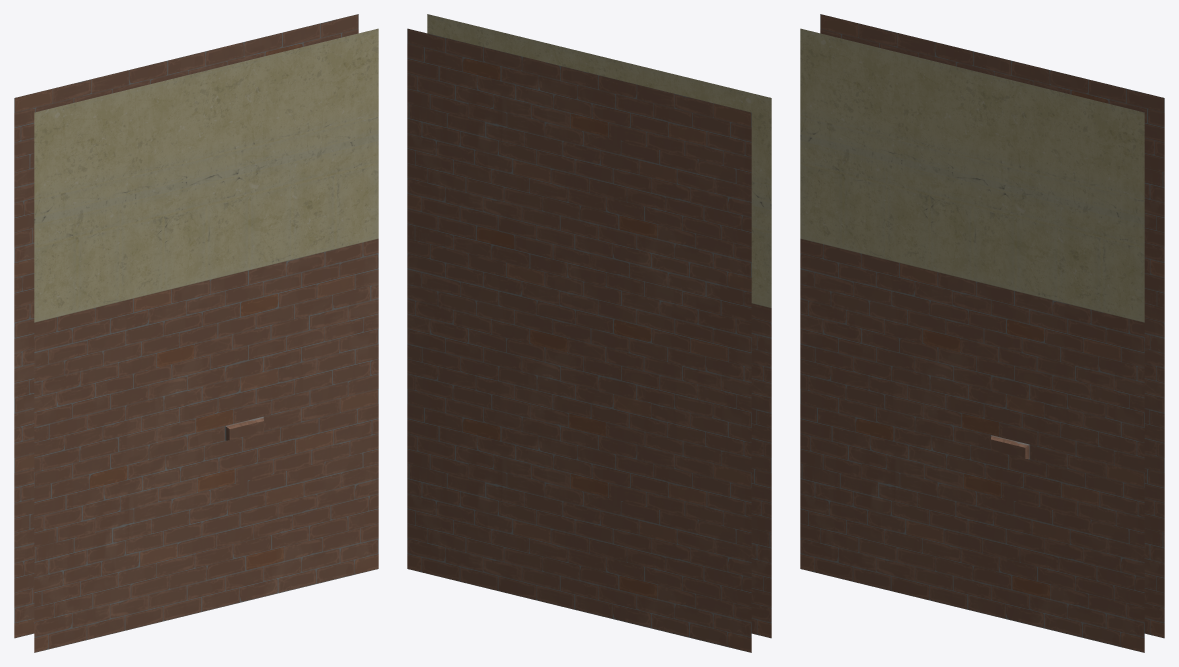
The model's file is Brick_HalfTrim.gltf.
The picture shows the model from 3 angles, left to right: view 1: azimuth 30°, elevation 25°; view 2: azimuth 150°, elevation 25°; view 3: azimuth 330°, elevation 25°; orthographic projection.
Visible parts, largest first — view 1: Brick_HalfTrim; view 2: Brick_HalfTrim; view 3: Brick_HalfTrim.
Part boxes in pixels (x1=…): Brick_HalfTrim: x1=14, y1=14, x2=378, y2=652; Brick_HalfTrim: x1=407, y1=14, x2=771, y2=652; Brick_HalfTrim: x1=800, y1=14, x2=1164, y2=652.
Size of the model in its own units: 2 by 3 by 0.2247.
3 materials, 3 textured.
